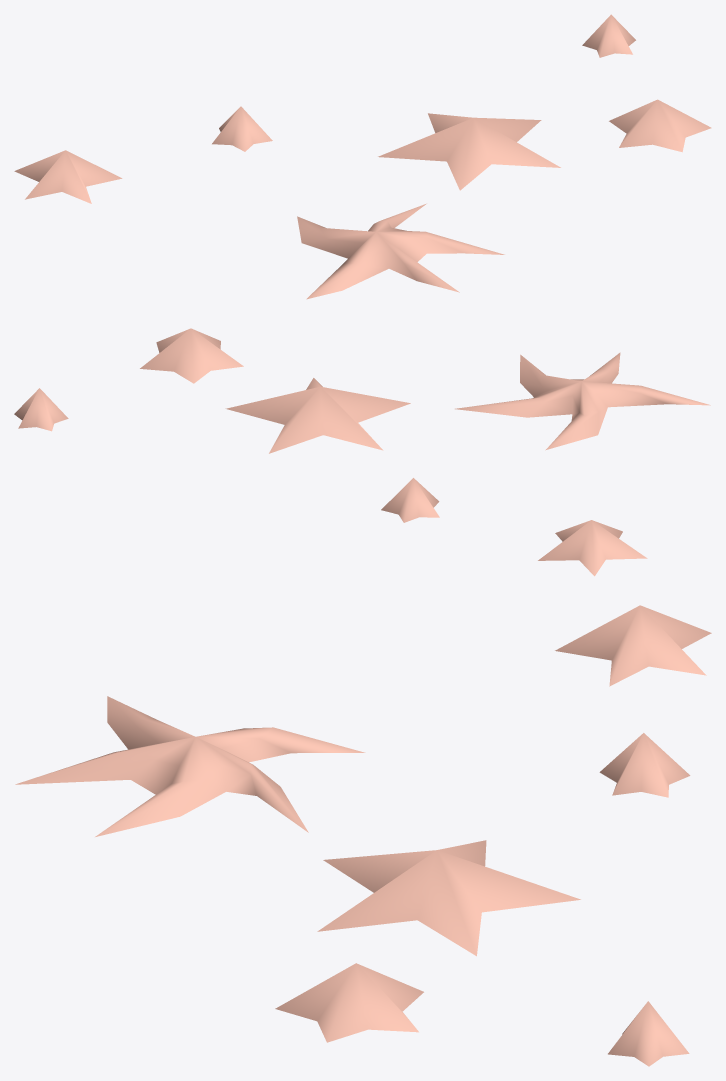
File: ytlds_Object (5).fbx
3 views of the same model, one above another, from view 1: azimuth 30°, elevation 25°; view 2: azimuth 150°, elevation 25°; view 3: azimuth 270°, elevation 25° (orthographic). The views are drawn at different scales.
Visible parts, largest first — view 1: Object05; view 2: Object05; view 3: Object05.
Part boxes in pixels (box(x1,y1,x2,y2)): Object05: box(14, 14, 711, 299); Object05: box(14, 328, 710, 576); Object05: box(15, 605, 711, 1066).
Bounding box in the file's own units: 253 × 12.51 × 166.
